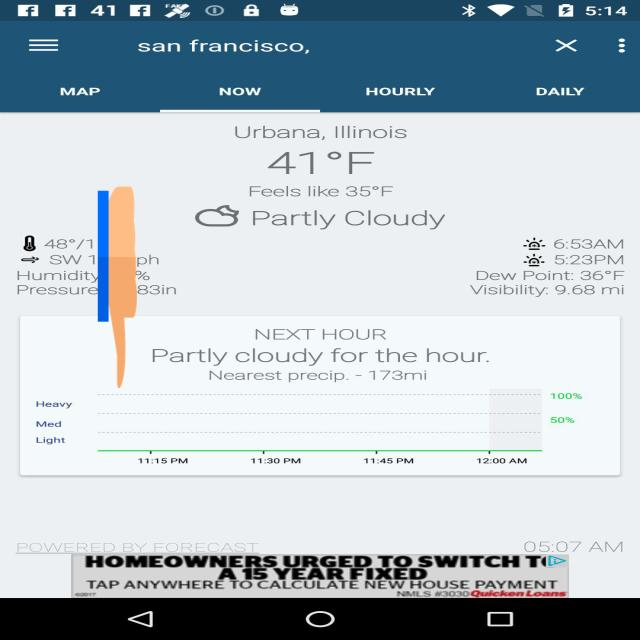obstruction: (98, 182, 137, 393)
